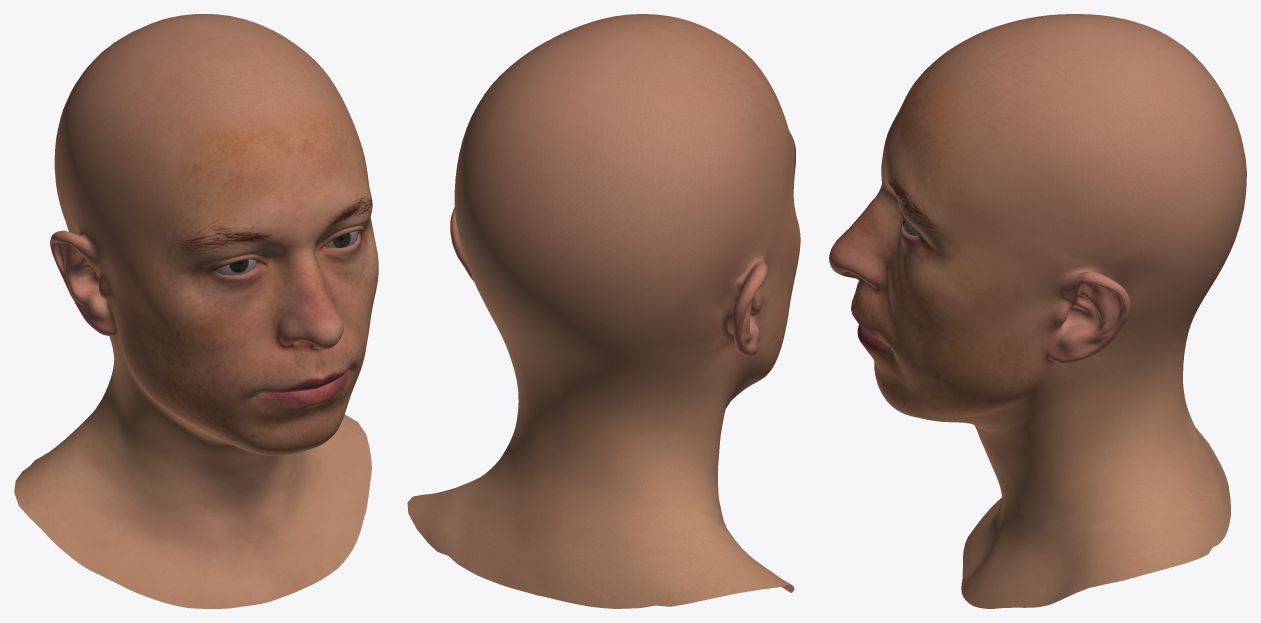
The picture shows the model from 3 angles, left to right: view 1: azimuth 30°, elevation 25°; view 2: azimuth 150°, elevation 25°; view 3: azimuth 270°, elevation 25°; orthographic projection. The views are drawn at different scales.
Parts seen in each view (by area): view 1: Registered head; view 2: Registered head; view 3: Registered head.
Part boxes in pixels (box(x1,y1,x2,y2)): Registered head: box(14, 14, 378, 608); Registered head: box(407, 14, 800, 608); Registered head: box(829, 14, 1246, 608).
Bounding box in the file's own units: 1.26 × 1.89 × 1.3.
Materials: 3 (3 with a texture image).
